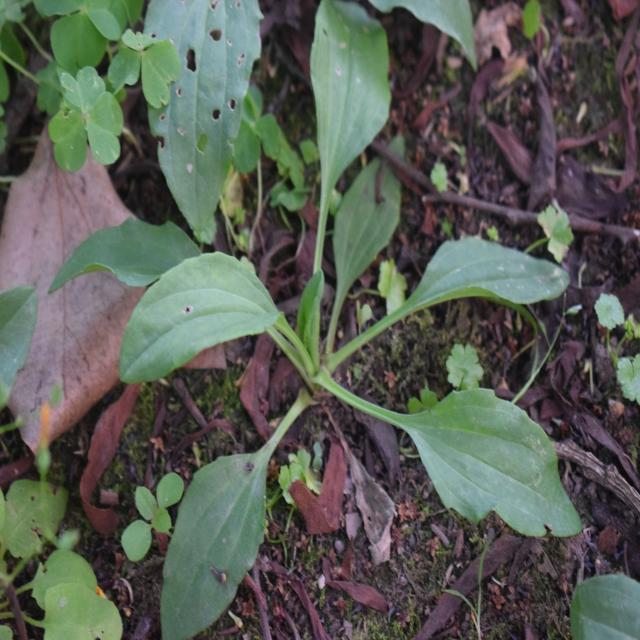plantain: (120, 50, 607, 583)
